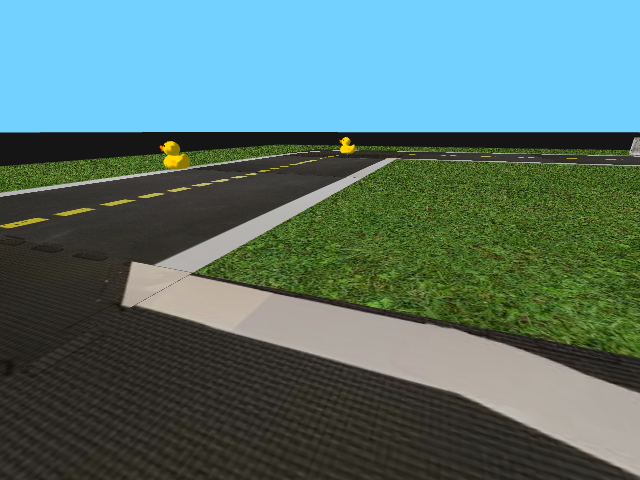Duckie: (158, 140, 189, 169), (337, 136, 356, 154)
